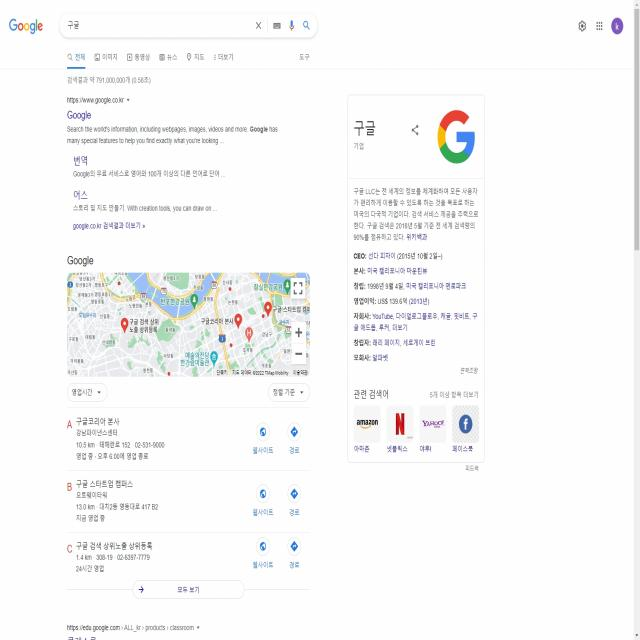menu-bar: (574, 12, 627, 38)
menu-panel: (63, 42, 320, 70)
search: (56, 7, 319, 41)
